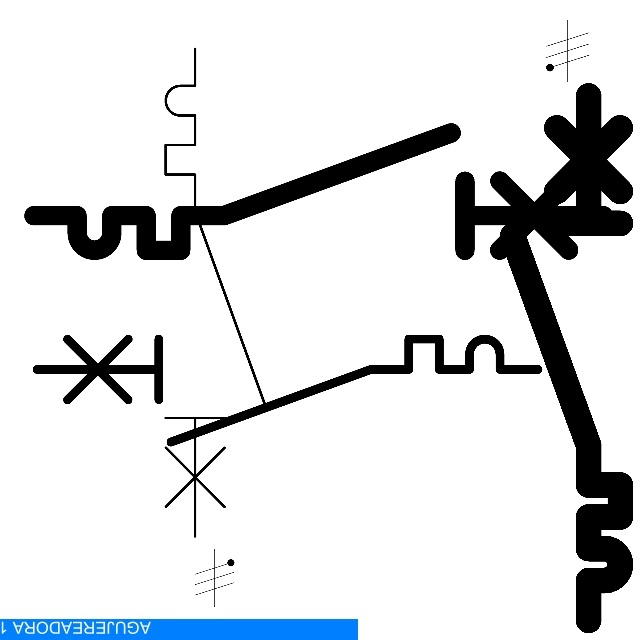interruptor_termomagnetico: (19, 118, 618, 265), (499, 82, 634, 634), (24, 326, 551, 455), (153, 36, 278, 549)
